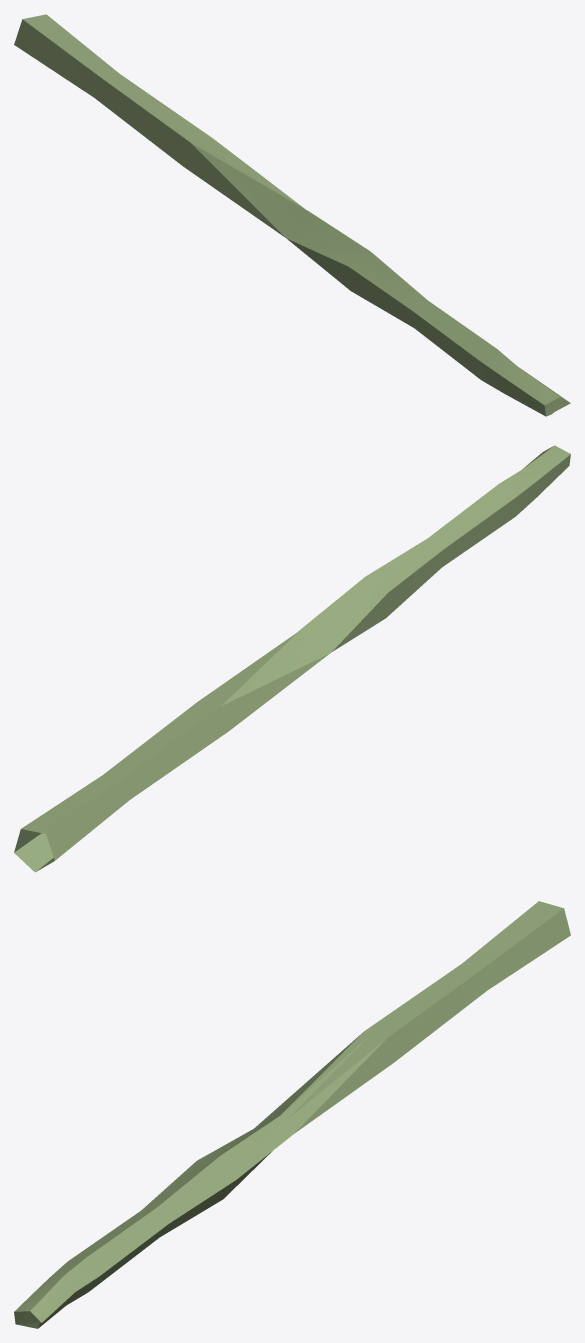
Rendered from leaflessBamboo.fbx.
3 renders of one model, top to bottom at view 1: azimuth 30°, elevation 25°; view 2: azimuth 150°, elevation 25°; view 3: azimuth 330°, elevation 25°, orthographic. The views are drawn at different scales.
Parts seen in each view (by area): view 1: Tree_Bamboo_01.001; view 2: Tree_Bamboo_01.001; view 3: Tree_Bamboo_01.001.
Boxes of the visible parts, bbox=[...] form: Tree_Bamboo_01.001: bbox=[14, 14, 570, 416]; Tree_Bamboo_01.001: bbox=[14, 445, 570, 872]; Tree_Bamboo_01.001: bbox=[14, 901, 570, 1328].
Size of the model in its own units: 0.2402 by 0.2005 by 4.61.
